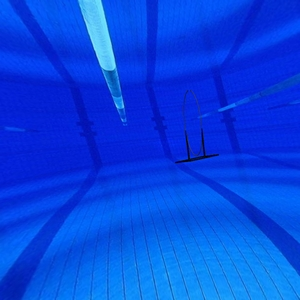circle: (175, 88, 221, 166)
